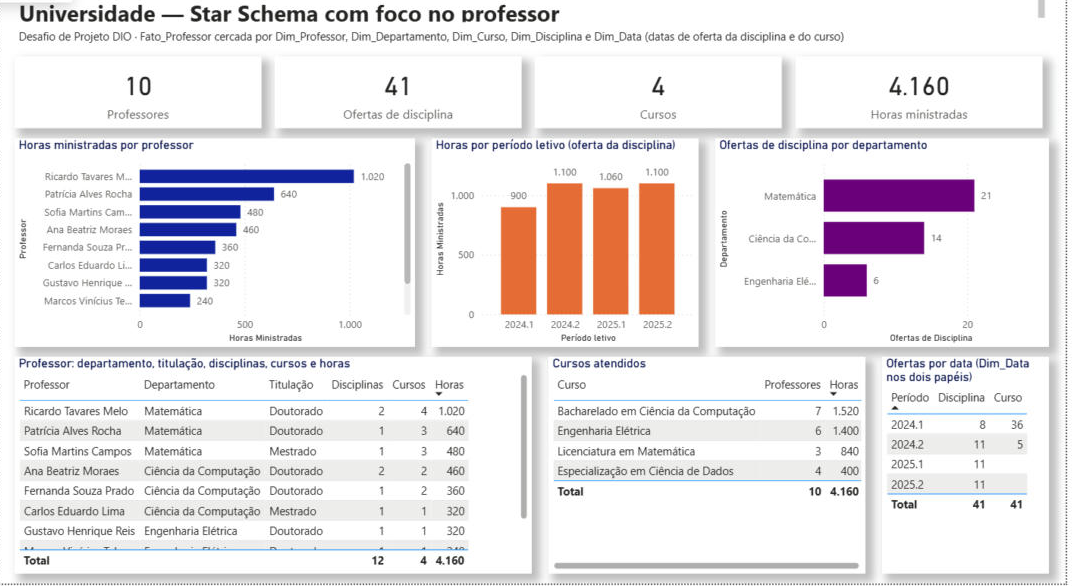

Layout of this report page (visuals, bound fields, positions):
{"tool":"powerbi","page":{"name":"Análise do professor","canvas":[1280,720],"ordinal":0},"visuals":[{"type":"textbox","box":[20,12,1240,40],"z":0},{"type":"textbox","box":[20,50,1240,28],"z":100},{"type":"card","fields":{"Values":["Fato_Professor.Professores Ativos"]},"box":[20,88,296,86],"z":1000},{"type":"card","fields":{"Values":["Fato_Professor.Ofertas de Disciplina"]},"box":[332,88,296,86],"z":1001},{"type":"card","fields":{"Values":["Fato_Professor.Cursos Atendidos"]},"box":[644,88,296,86],"z":1002},{"type":"card","fields":{"Values":["Fato_Professor.Horas Ministradas"]},"box":[956,88,296,86],"z":1003},{"type":"clusteredBarChart","title":"Horas ministradas por professor","fields":{"Category":["Dim_Professor.nome_professor"],"Y":["Fato_Professor.Horas Ministradas"]},"box":[20,186,480,250],"z":2000},{"type":"clusteredColumnChart","title":"Horas por período letivo (oferta da disciplina)","fields":{"Category":["Dim_Data.periodo_letivo"],"Y":["Fato_Professor.Horas Ministradas"]},"box":[520,186,320,250],"z":3000},{"type":"clusteredBarChart","title":"Ofertas de disciplina por departamento","fields":{"Category":["Dim_Departamento.nome_departamento"],"Y":["Fato_Professor.Ofertas de Disciplina"]},"box":[860,186,400,250],"z":4000},{"type":"tableEx","title":"Professor: departamento, titulação, disciplinas, cursos e horas","fields":{"Values":["Dim_Professor.nome_professor","Dim_Professor.nome_departamento","Dim_Professor.titulacao","Fato_Professor.Disciplinas Distintas","Fato_Professor.Cursos Atendidos","Fato_Professor.Horas Ministradas"]},"box":[20,448,620,260],"z":5000},{"type":"tableEx","title":"Cursos atendidos","fields":{"Values":["Dim_Curso.nome_curso","Fato_Professor.Professores Ativos","Fato_Professor.Horas Ministradas"]},"box":[660,448,380,260],"z":6000},{"type":"tableEx","title":"Ofertas por data (Dim_Data nos dois papéis)","fields":{"Values":["Dim_Data.periodo_letivo","Fato_Professor.Ofertas de Disciplina","Fato_Professor.Ofertas por Data do Curso"]},"box":[1060,448,200,260],"z":7000}]}

Visuals, with their boxes in screenshot pixels (x1, y1, x2, y2), scaled from the page's 1280x720 canvas onto the 1072x586 screenshot:
textbox: locate(17, 10, 1055, 42)
textbox: locate(17, 41, 1055, 63)
card - Fato_Professor.Professores Ativos: locate(17, 72, 265, 142)
card - Fato_Professor.Ofertas de Disciplina: locate(278, 72, 526, 142)
card - Fato_Professor.Cursos Atendidos: locate(539, 72, 787, 142)
card - Fato_Professor.Horas Ministradas: locate(801, 72, 1049, 142)
"Horas ministradas por professor" clusteredBarChart: locate(17, 151, 419, 355)
"Horas por período letivo (oferta da disciplina)" clusteredColumnChart: locate(436, 151, 704, 355)
"Ofertas de disciplina por departamento" clusteredBarChart: locate(720, 151, 1055, 355)
"Professor: departamento, titulação, disciplinas, cursos e horas" tableEx: locate(17, 365, 536, 576)
"Cursos atendidos" tableEx: locate(553, 365, 871, 576)
"Ofertas por data (Dim_Data nos dois papéis)" tableEx: locate(888, 365, 1055, 576)
